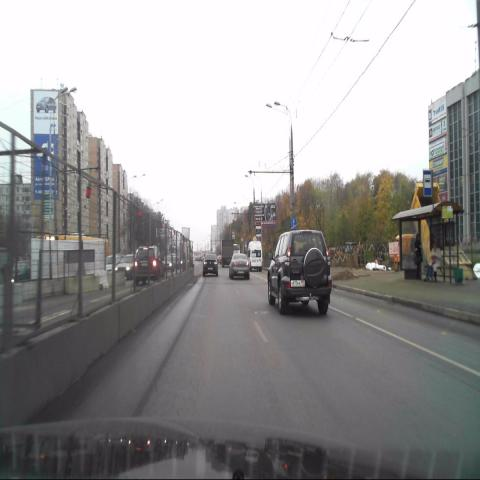5_16: (423, 170, 432, 196)
